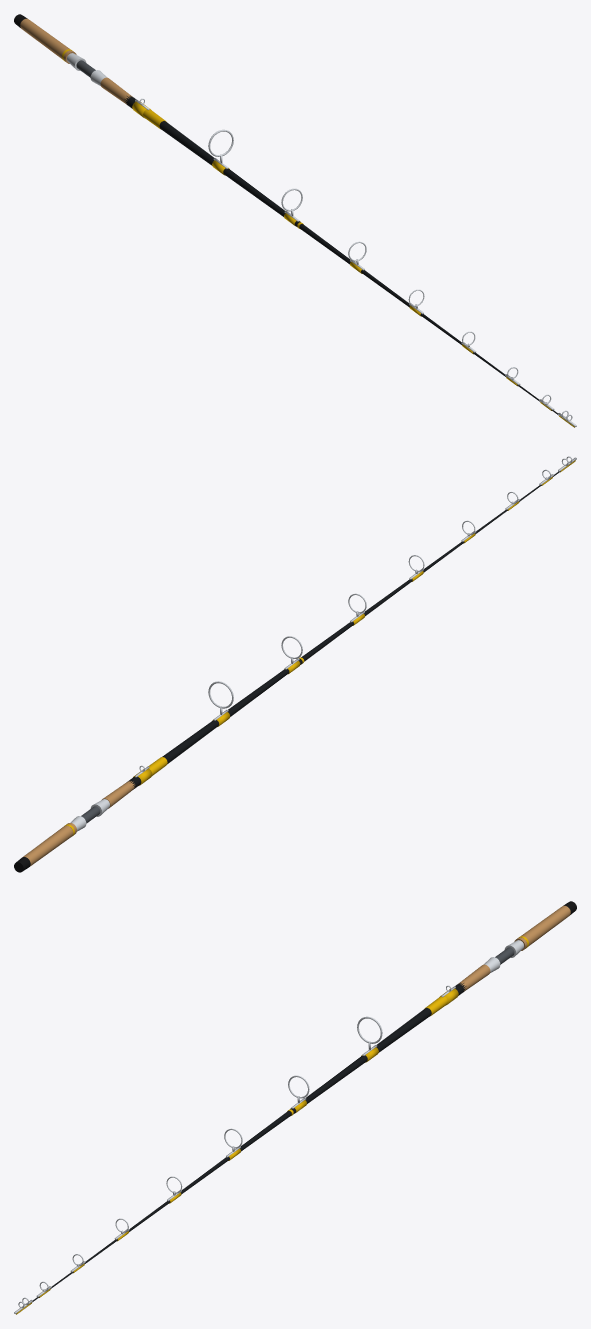
The model's file is 19_spinning_Major_Craft_Firstcast.obj.
3 views of the same model, one above another, from view 1: azimuth 30°, elevation 25°; view 2: azimuth 150°, elevation 25°; view 3: azimuth 330°, elevation 25° (orthographic).
Visible parts, largest first — view 1: Blank, Guides_Metal, Grip, Accent; view 2: Blank, Guides_Metal, Grip, Accent; view 3: Blank, Guides_Metal, Grip, Accent.
Part boxes in pixels (box(x1,y1,x2,y2)): Blank: box(124, 95, 558, 415); Guides_Metal: box(135, 98, 576, 426); Grip: box(20, 18, 132, 104); Accent: box(62, 49, 574, 427); Blank: box(127, 471, 560, 789); Guides_Metal: box(135, 456, 576, 777); Grip: box(22, 781, 135, 866); Accent: box(64, 460, 575, 836); Blank: box(32, 982, 466, 1302); Guides_Metal: box(14, 985, 455, 1313); Grip: box(458, 905, 570, 991); Accent: box(16, 936, 528, 1314).
Size of the model in its own units: 0.0556 by 0.0916 by 2.12.
